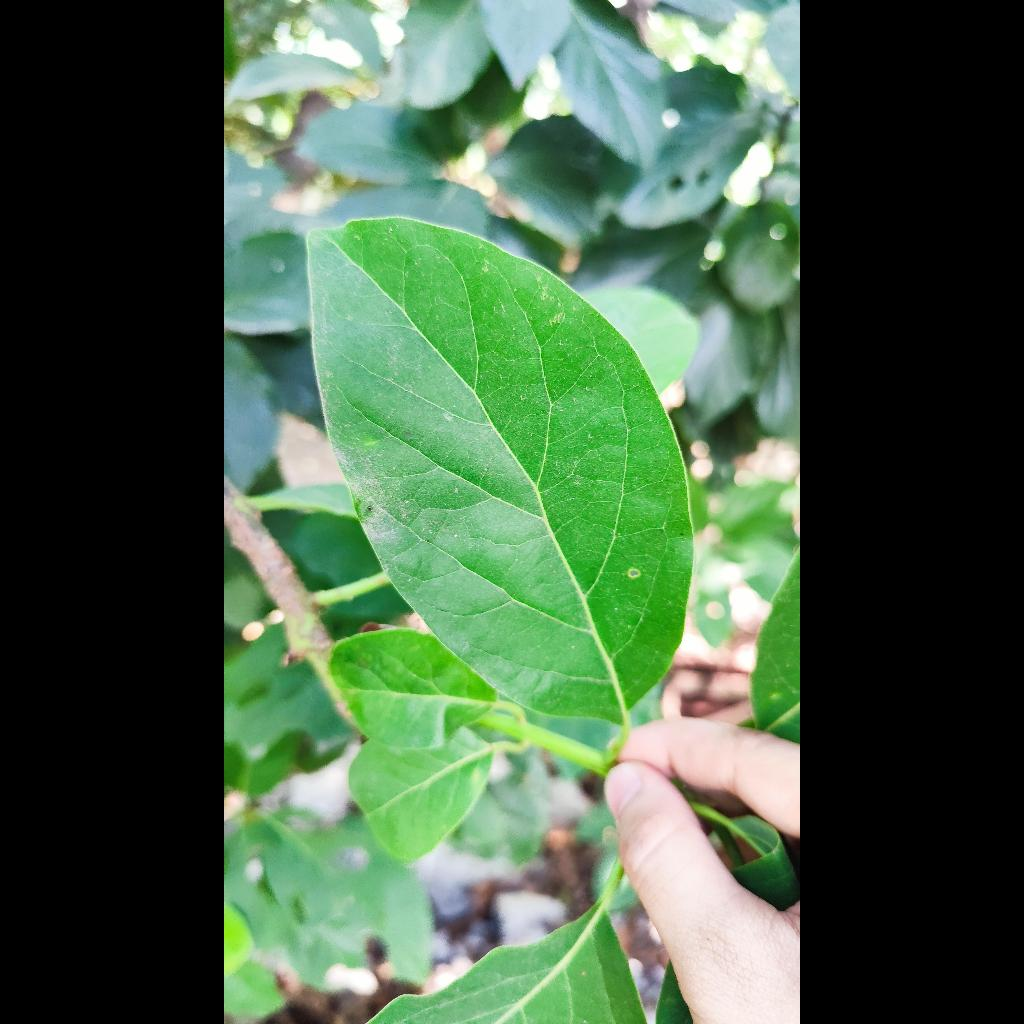Healthy: (308, 219, 692, 724)
